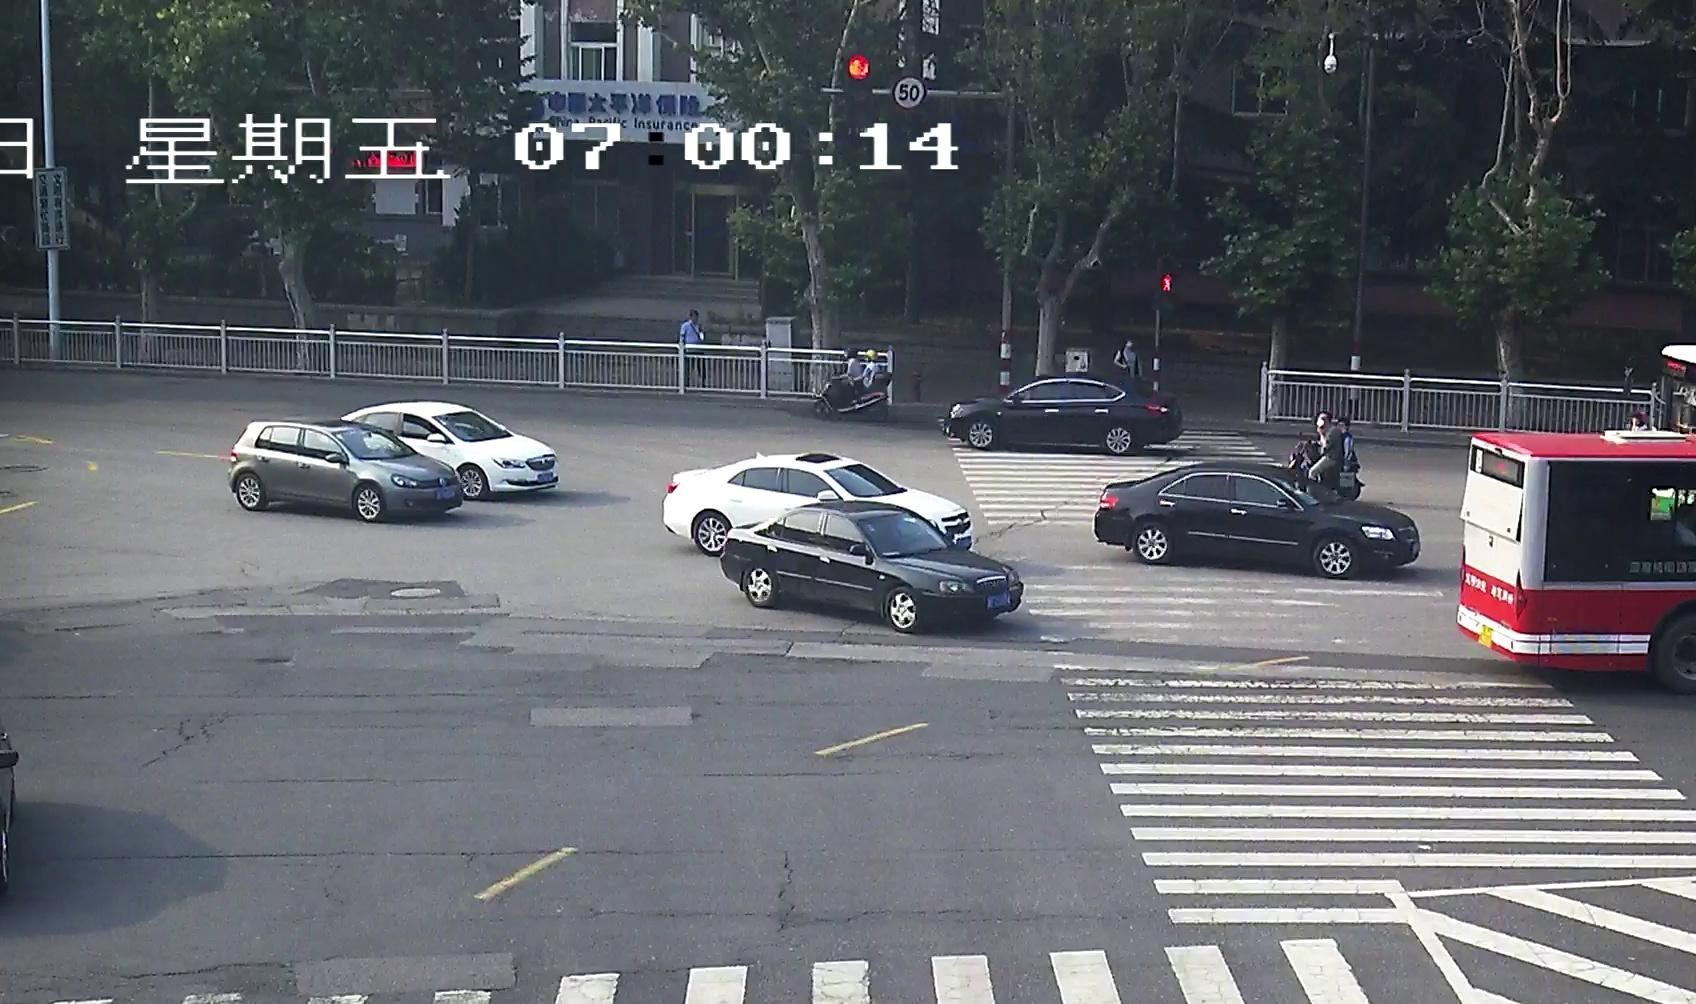red: (840, 53, 881, 86)
redpeople: (1153, 270, 1178, 294)
